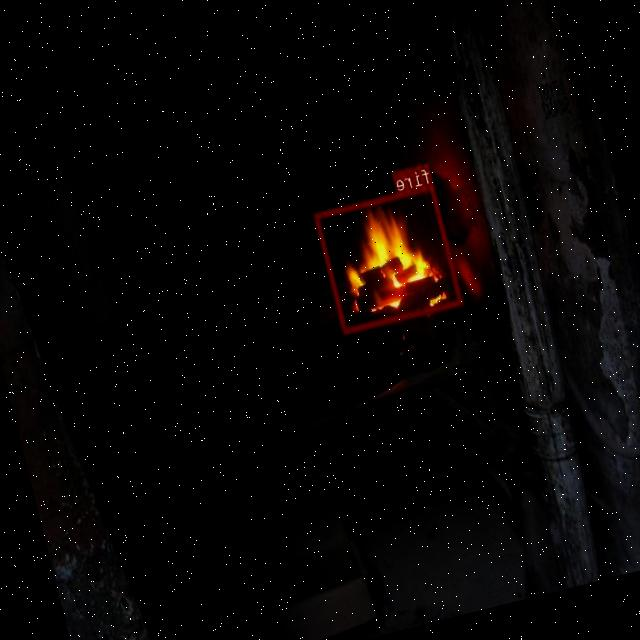fire: (314, 182, 464, 333)
